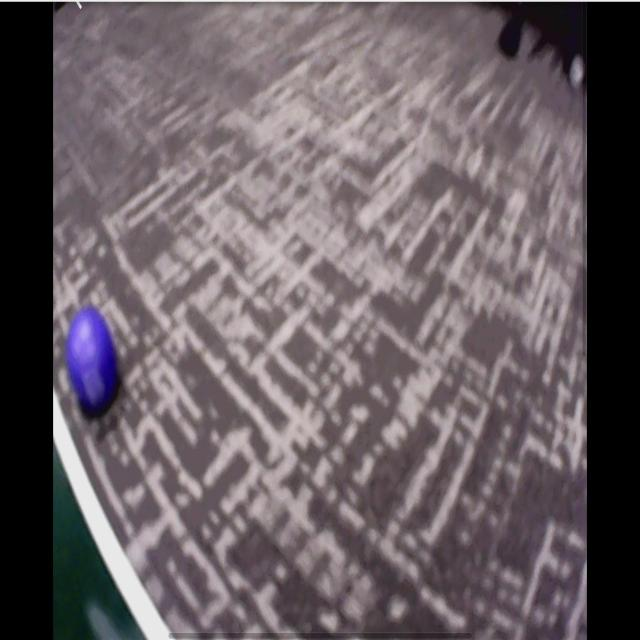ball: (67, 308, 123, 412)
